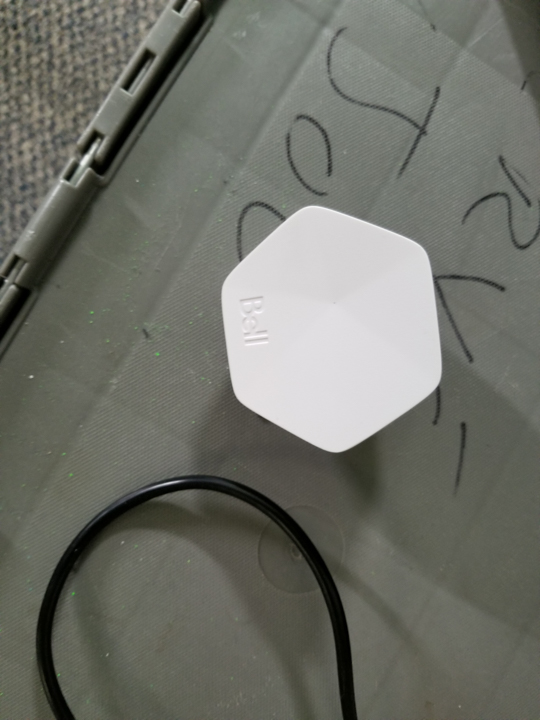pod: (213, 201, 455, 460)
